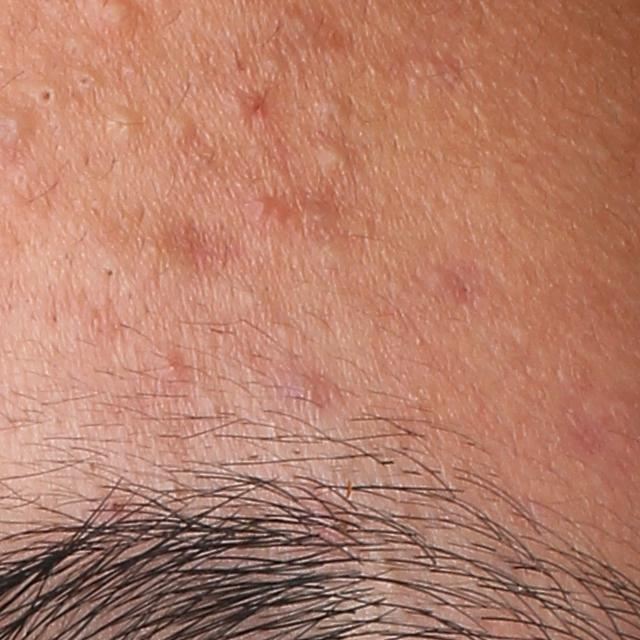comedo: (102, 104, 142, 149), (307, 140, 353, 177), (161, 108, 199, 143), (316, 93, 354, 121), (263, 48, 289, 76), (34, 82, 58, 109), (74, 69, 97, 91), (100, 262, 120, 285)
papule: (244, 183, 349, 243), (267, 360, 342, 417)
